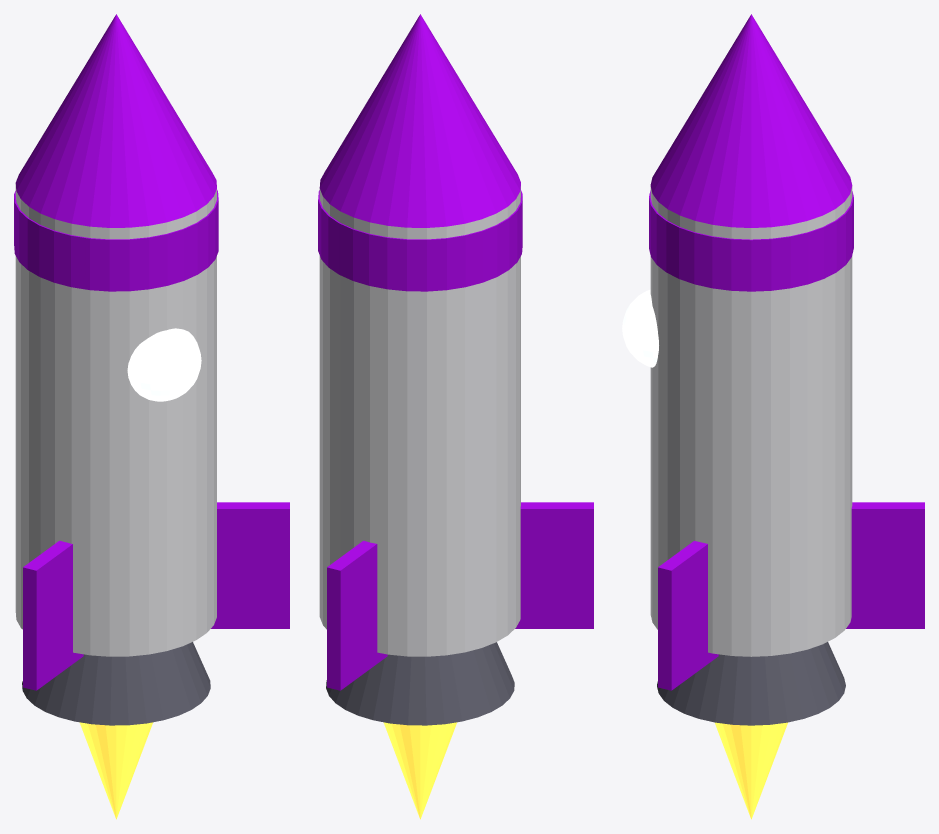
Rendered from rocket.glb.
3 views of the same model, side by side, from view 1: azimuth 30°, elevation 25°; view 2: azimuth 150°, elevation 25°; view 3: azimuth 270°, elevation 25° (orthographic).
Visible parts, largest first — view 1: Cylinder, Cone.002, Cylinder.001, Cone, Cube.002, Cube.001, Sphere, Cone.001; view 2: Cylinder, Cone.002, Cylinder.001, Cone, Cube.001, Cube, Cone.001; view 3: Cylinder, Cone.002, Cylinder.001, Cone, Cube, Cube.002, Cone.001, Sphere.
Part boxes in pixels (box(x1,y1,x2,y2)): Cylinder: box(15, 184, 216, 656); Cone.002: box(15, 14, 216, 227); Cylinder.001: box(14, 190, 218, 291); Cone: box(22, 642, 210, 725); Cube.002: box(211, 502, 289, 628); Cube.001: box(23, 540, 83, 690); Sphere: box(127, 328, 201, 401); Cone.001: box(79, 722, 152, 819); Cylinder: box(319, 186, 520, 656); Cone.002: box(319, 14, 520, 227); Cylinder.001: box(318, 190, 522, 291); Cone: box(326, 642, 514, 725); Cube.001: box(515, 502, 593, 628); Cube: box(327, 540, 387, 690); Cone.001: box(383, 722, 456, 819); Cylinder: box(650, 186, 852, 656); Cone.002: box(650, 14, 852, 227); Cylinder.001: box(649, 190, 853, 291); Cone: box(657, 642, 845, 725); Cube: box(846, 502, 924, 628); Cube.002: box(658, 541, 718, 690); Cone.001: box(715, 722, 787, 819); Sphere: box(622, 289, 658, 367).
Bounding box in the file's own units: 0.9776 × 2.82 × 0.96.
